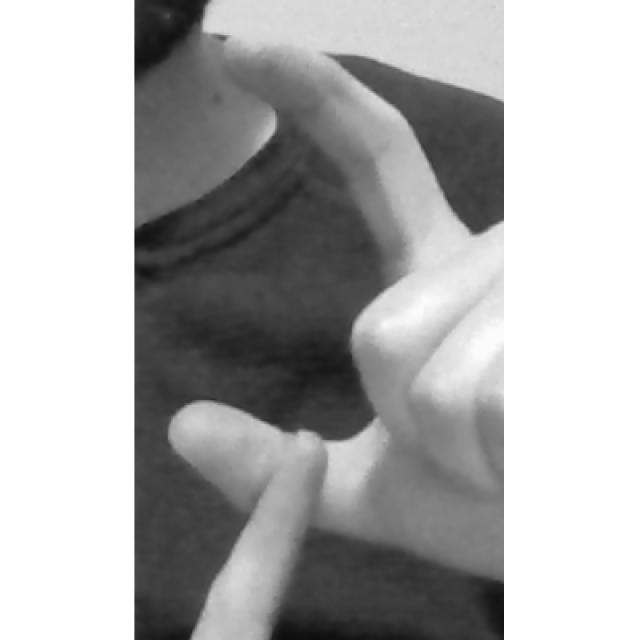C_: (166, 28, 504, 640)
